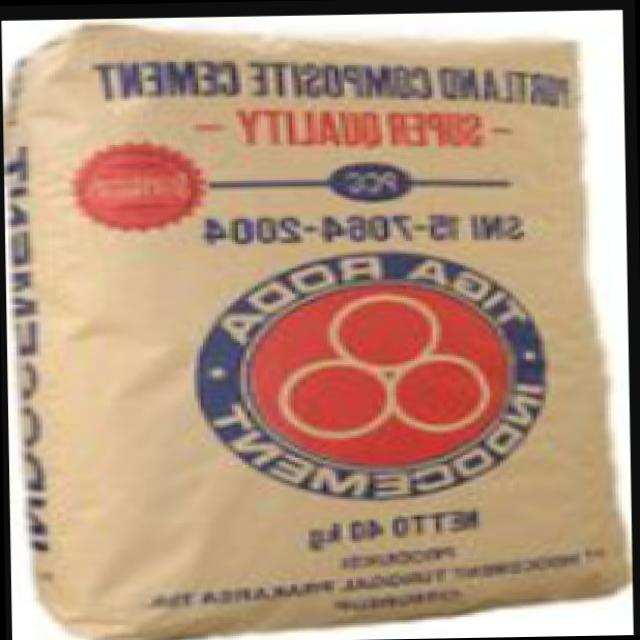KantongSemen: (7, 13, 630, 640)
